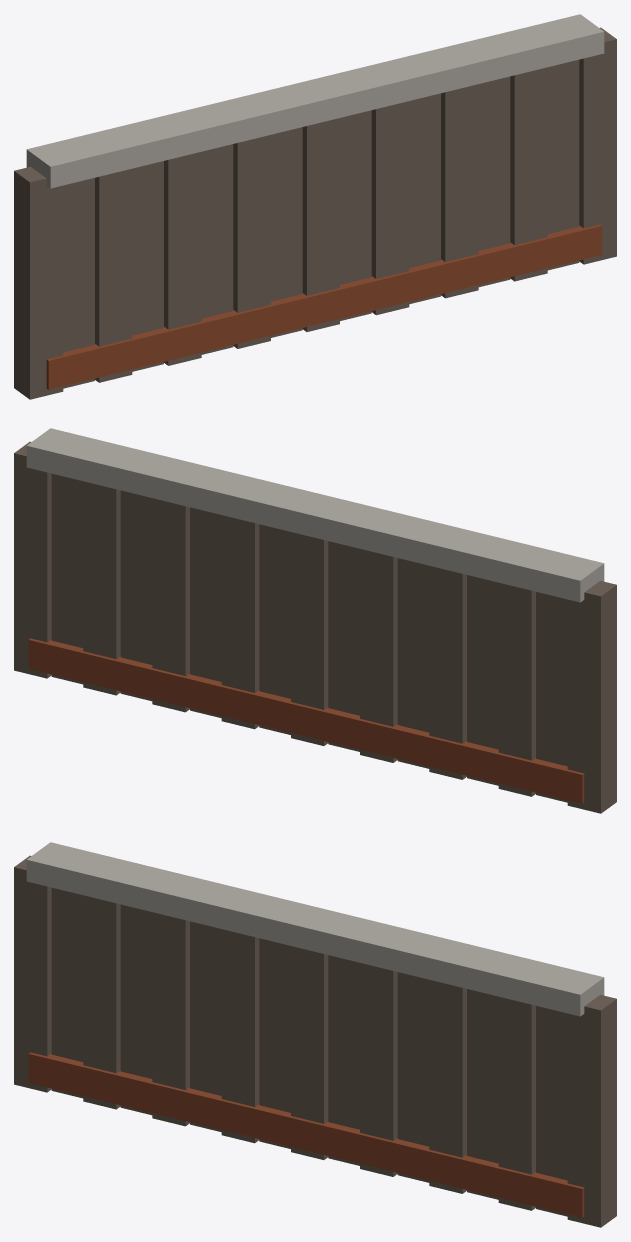
The model's file is f05-bank-sheet-piling.glb.
3 views of the same model, one above another, from view 1: azimuth 30°, elevation 25°; view 2: azimuth 150°, elevation 25°; view 3: azimuth 330°, elevation 25° (orthographic).
Visible parts, largest first — view 1: part17, part18, part0, part16, part10, part12, part2, part14, part4, part6, part8, part5 (+7 smaller); view 2: part17, part18, part0, part16, part10, part12, part2, part14, part4, part6, part8, part5 (+7 smaller); view 3: part17, part18, part16, part0, part6, part4, part14, part2, part10, part12, part8, part1 (+7 smaller).
Part boxes in pixels (box(x1,y1,x2,y2)): part17: box(26, 14, 604, 188); part18: box(46, 224, 602, 389); part0: box(14, 166, 63, 399); part16: box(579, 27, 616, 264); part10: box(371, 101, 409, 315); part12: box(441, 84, 478, 298); part2: box(95, 169, 132, 382); part14: box(510, 67, 547, 281); part4: box(164, 152, 201, 365); part6: box(233, 135, 270, 348); part8: box(302, 118, 339, 331); part5: box(201, 144, 233, 354); part17: box(26, 428, 604, 602); part18: box(28, 638, 584, 803); part0: box(567, 580, 616, 813); part16: box(14, 441, 51, 678); part10: box(221, 515, 259, 729); part12: box(152, 498, 189, 712); part2: box(498, 583, 535, 796); part14: box(83, 481, 120, 695); part4: box(429, 566, 466, 779); part6: box(360, 549, 397, 762); part8: box(291, 532, 328, 745); part5: box(397, 558, 429, 768); part17: box(26, 842, 604, 1016); part18: box(28, 1052, 584, 1217); part16: box(567, 994, 616, 1227); part0: box(14, 855, 51, 1092); part6: box(221, 929, 259, 1143); part4: box(152, 912, 189, 1126); part14: box(498, 997, 535, 1210); part2: box(83, 895, 120, 1109); part10: box(360, 963, 397, 1176); part12: box(429, 980, 466, 1193); part8: box(291, 946, 328, 1159); part1: box(51, 887, 83, 1098).
Bounding box in the file's own units: 8480 × 3200 × 600.
